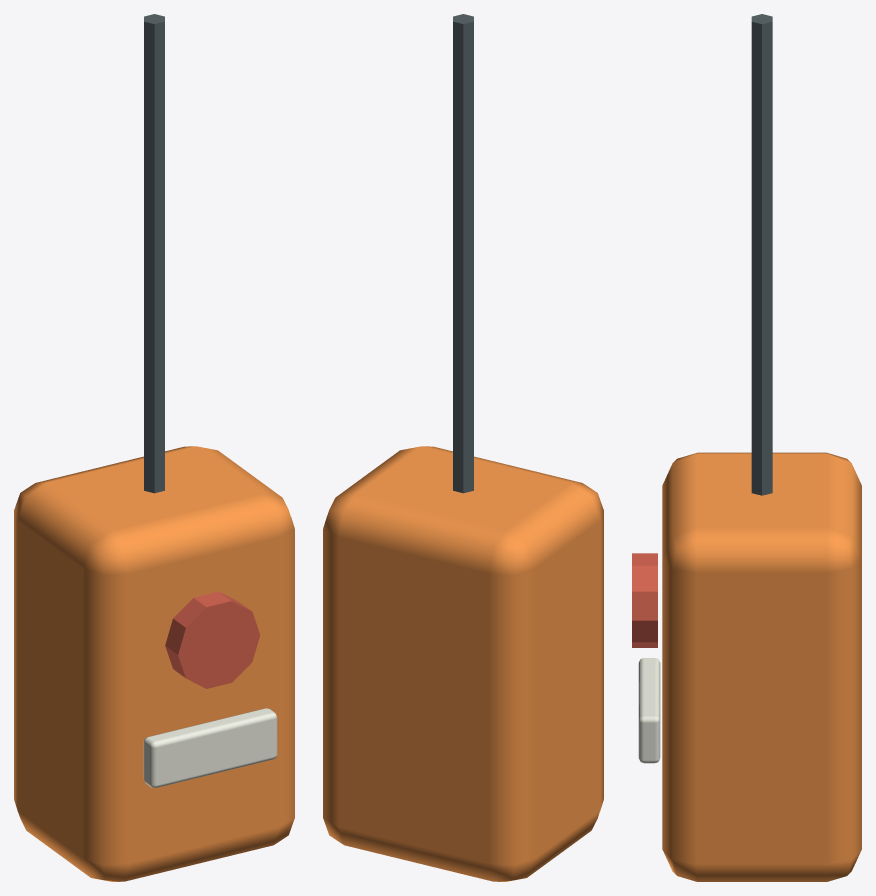
Rendered from castaway-island-escape-locator-beacon-82d5817d__28057.glb.
The picture shows the model from 3 angles, left to right: view 1: azimuth 30°, elevation 25°; view 2: azimuth 150°, elevation 25°; view 3: azimuth 270°, elevation 25°; orthographic projection.
Parts seen in each view (by area): view 1: locator-beacon-orange, locator-beacon-iron, locator-beacon-ivory, locator-beacon-red; view 2: locator-beacon-orange, locator-beacon-iron; view 3: locator-beacon-orange, locator-beacon-iron, locator-beacon-red, locator-beacon-ivory.
Part boxes in pixels (x1,y1,x2,y2): locator-beacon-orange: [14, 446, 294, 881]; locator-beacon-iron: [144, 14, 164, 493]; locator-beacon-ivory: [143, 708, 277, 787]; locator-beacon-red: [165, 591, 259, 688]; locator-beacon-orange: [323, 446, 603, 881]; locator-beacon-iron: [453, 14, 473, 493]; locator-beacon-orange: [662, 452, 861, 881]; locator-beacon-iron: [751, 14, 772, 495]; locator-beacon-red: [632, 553, 657, 647]; locator-beacon-ivory: [638, 658, 660, 763].
Size of the model in its own units: 0.28 by 1.05 by 0.265.
